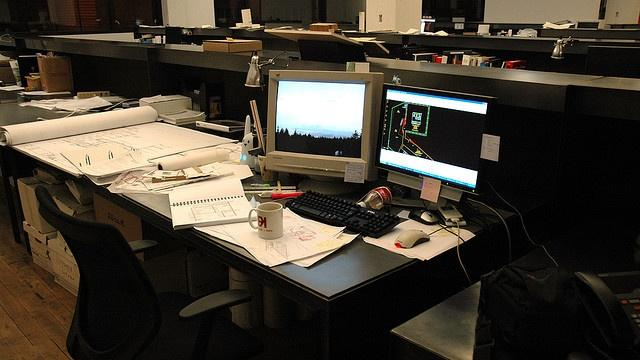AIO PC-Monitor-TV: (374, 82, 497, 196), (263, 67, 383, 180)
Kursi: (32, 185, 252, 359)
